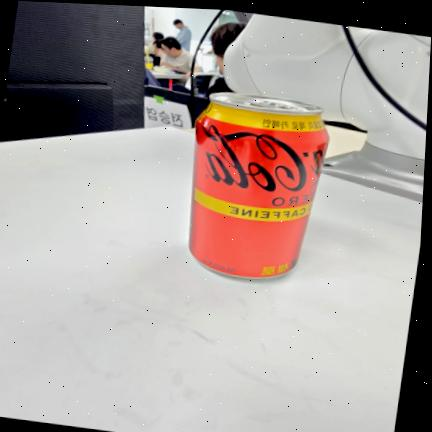can_coke_decaf: (189, 93, 329, 278)
